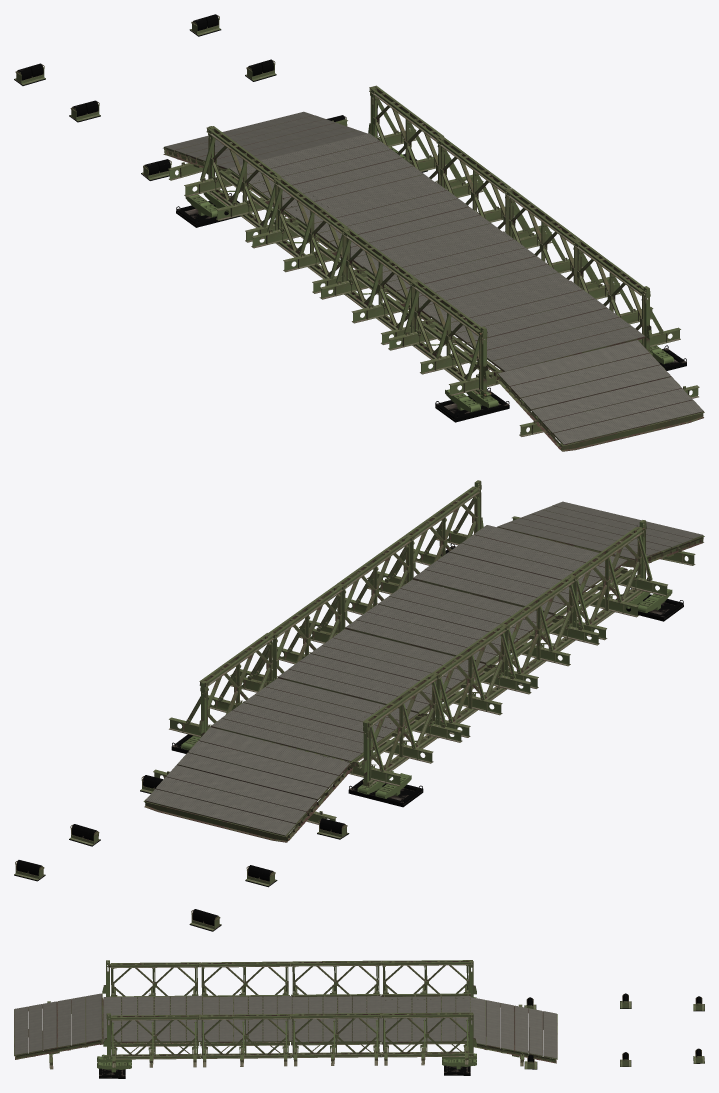
File: bailey_bridge_staic_mesh.fbx
3 renders of one model, top to bottom at view 1: azimuth 30°, elevation 25°; view 2: azimuth 150°, elevation 25°; view 3: azimuth 270°, elevation 25°, orthographic. The views are drawn at different scales.
Visible parts, largest first — view 1: Step17_Chesses, Step12_bailey_ext, Step16_ramp, Step3_Plain_roller, Step14_Nose_remove1, Step15_End_post; view 2: Step17_Chesses, Step12_bailey_ext, Step16_ramp, Step3_Plain_roller, Step15_End_post, Step14_Nose_remove1, Step1_Base_Plate, Step2_Rocking_Roller; view 3: Step12_bailey_ext, Step17_Chesses, Step16_ramp, Step3_Plain_roller, Step15_End_post, Step14_Nose_remove1, Step2_Rocking_Roller, Step1_Base_Plate.
Boxes of the visible parts, x1=… form: Step17_Chesses: x1=229, y1=133, x2=645, y2=371; Step12_bailey_ext: x1=184, y1=85, x2=680, y2=396; Step16_ramp: x1=163, y1=111, x2=704, y2=451; Step3_Plain_roller: x1=14, y1=14, x2=346, y2=180; Step14_Nose_remove1: x1=435, y1=345, x2=686, y2=422; Step15_End_post: x1=206, y1=86, x2=652, y2=399; Step17_Chesses: x1=210, y1=525, x2=627, y2=761; Step12_bailey_ext: x1=169, y1=486, x2=668, y2=786; Step16_ramp: x1=143, y1=501, x2=704, y2=842; Step3_Plain_roller: x1=14, y1=775, x2=349, y2=931; Step15_End_post: x1=198, y1=480, x2=647, y2=794; Step14_Nose_remove1: x1=441, y1=543, x2=683, y2=621; Step1_Base_Plate: x1=171, y1=734, x2=423, y2=807; Step2_Rocking_Roller: x1=181, y1=725, x2=411, y2=798; Step12_bailey_ext: x1=101, y1=960, x2=473, y2=1067; Step17_Chesses: x1=103, y1=996, x2=470, y2=1042; Step16_ramp: x1=14, y1=993, x2=557, y2=1069; Step3_Plain_roller: x1=524, y1=993, x2=704, y2=1069; Step15_End_post: x1=102, y1=960, x2=476, y2=1061; Step14_Nose_remove1: x1=97, y1=1056, x2=131, y2=1078; Step2_Rocking_Roller: x1=442, y1=997, x2=476, y2=1069; Step1_Base_Plate: x1=444, y1=1065, x2=470, y2=1075.
Bounding box in the file's own units: 611 × 203 × 2323.
Materials: 4 (4 with a texture image).
